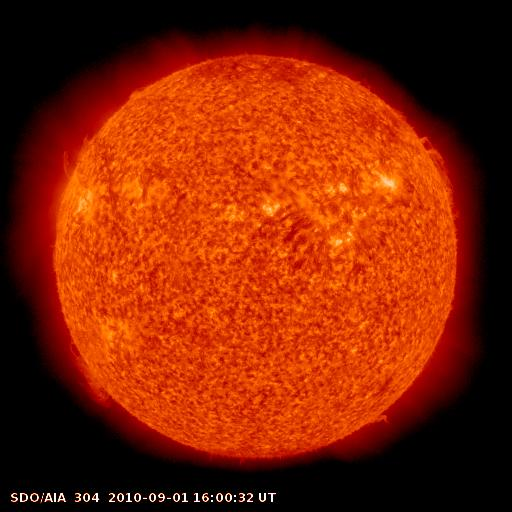prominence: (411, 127, 465, 223), (62, 333, 121, 414), (54, 129, 101, 184), (358, 402, 401, 435)
